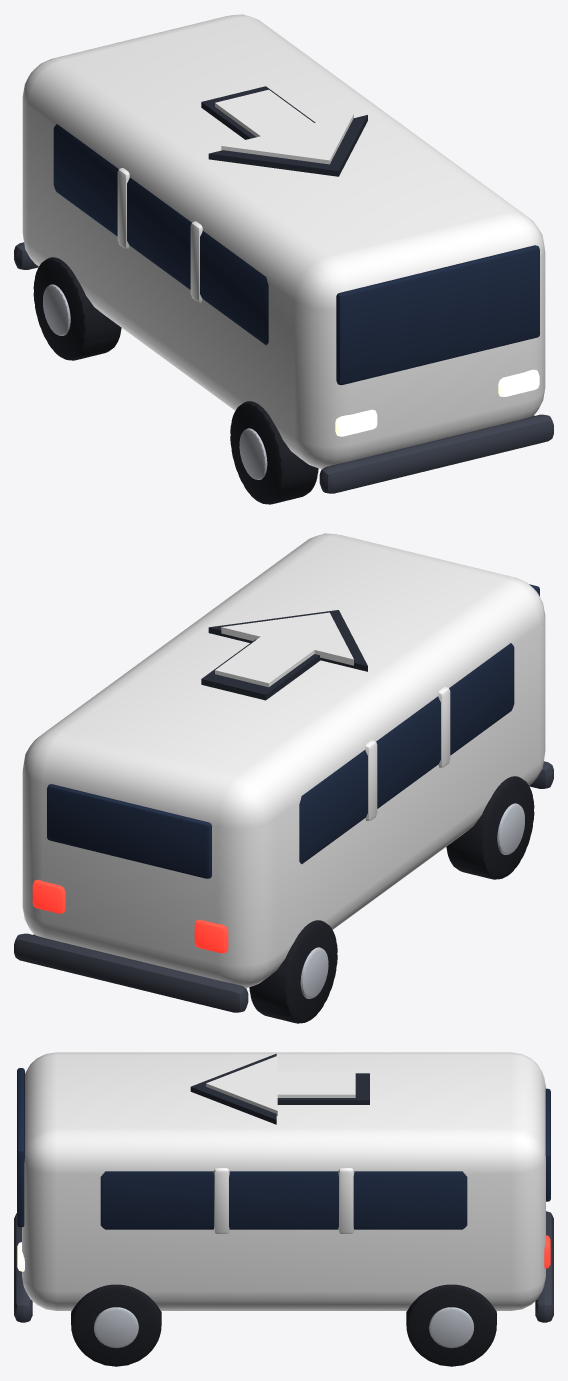
File: Van.fbx
The picture shows the model from 3 angles, top to bottom: view 1: azimuth 30°, elevation 25°; view 2: azimuth 150°, elevation 25°; view 3: azimuth 270°, elevation 25°; orthographic projection. The views are drawn at different scales.
Visible parts, largest first — view 1: Van, Arrow, Wheel_FL, Wheel_RL; view 2: Van, Arrow, Wheel_RL, Wheel_FL; view 3: Van, Arrow, Wheel_FR, Wheel_RR.
Boxes of the visible parts, <box> form: Van: <box>14,14,553,493</box>; Arrow: <box>201,86,367,176</box>; Wheel_FL: <box>230,401,318,504</box>; Wheel_RL: <box>33,257,121,360</box>; Van: <box>14,533,553,1012</box>; Arrow: <box>201,610,367,700</box>; Wheel_RL: <box>249,920,337,1023</box>; Wheel_FL: <box>446,776,534,879</box>; Van: <box>14,1052,553,1322</box>; Arrow: <box>190,1053,369,1124</box>; Wheel_FR: <box>71,1284,161,1366</box>; Wheel_RR: <box>406,1284,496,1366</box>.
Bounding box in the file's own units: 0.96 × 0.9523 × 2.01.
